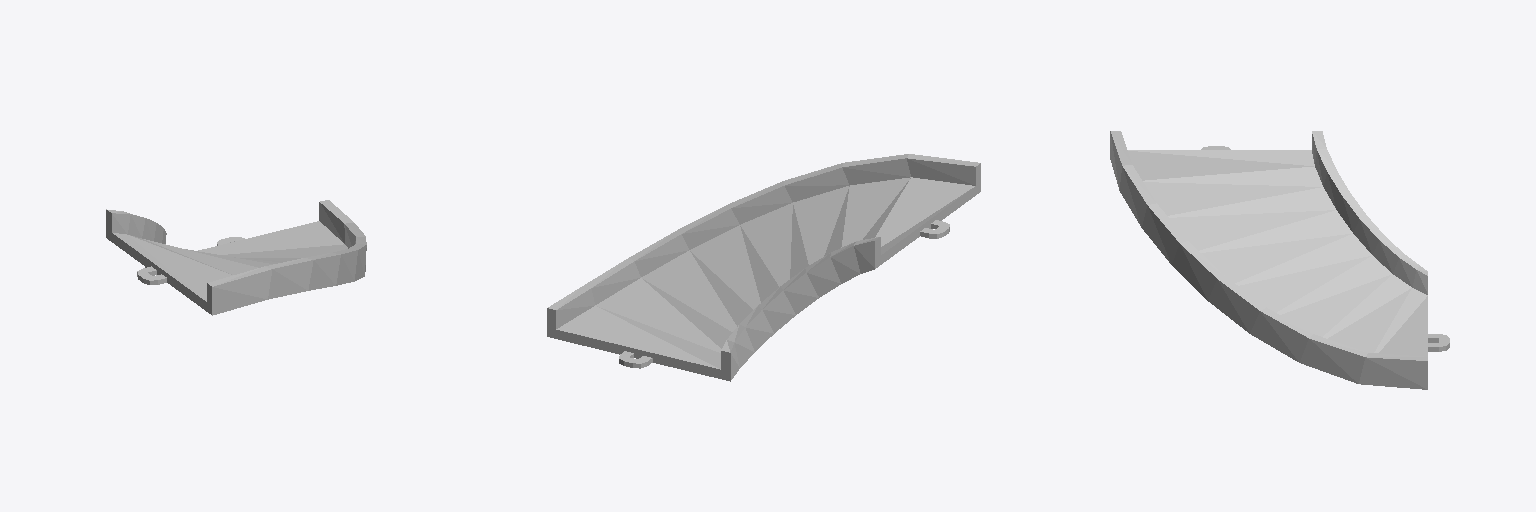
Rendered from track-wide-corner-small-ramp.obj.
The picture shows the model from 3 angles: view 1: azimuth 30°, elevation 25°; view 2: azimuth 150°, elevation 25°; view 3: azimuth 270°, elevation 25°; orthographic projection.
Parts seen in each view (by area): view 1: track-wide-corner-small-ramp; view 2: track-wide-corner-small-ramp; view 3: track-wide-corner-small-ramp.
Boxes of the visible parts, x1=… form: track-wide-corner-small-ramp: x1=106, y1=200, x2=366, y2=315; track-wide-corner-small-ramp: x1=547, y1=154, x2=980, y2=381; track-wide-corner-small-ramp: x1=1110, y1=131, x2=1449, y2=389.
Bounding box in the file's own units: 3.2 × 1.3 × 3.2.